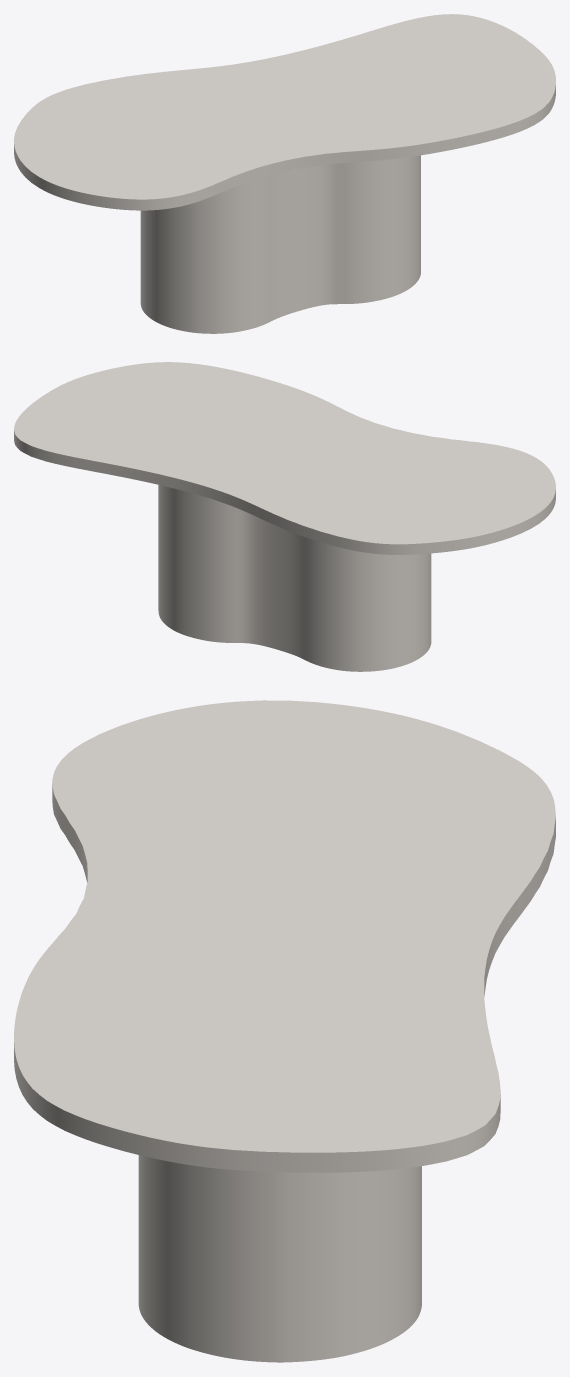
The model's file is pearlwhite_wave_standard_riverwave.glb.
3 views of the same model, one above another, from view 1: azimuth 30°, elevation 25°; view 2: azimuth 150°, elevation 25°; view 3: azimuth 270°, elevation 25° (orthographic). The views are drawn at different scales.
Parts seen in each view (by area): view 1: standard_wave, riverwave; view 2: standard_wave, riverwave; view 3: standard_wave, riverwave.
Boxes of the visible parts, x1,y1,x2,y2 form: standard_wave: (14, 14, 555, 210); riverwave: (140, 155, 420, 333); standard_wave: (14, 362, 555, 554); riverwave: (158, 485, 431, 671); standard_wave: (14, 700, 555, 1172); riverwave: (138, 1155, 421, 1362).
Bounding box in the file's own units: 7.5 × 2.5 × 3.8.
Materials: 1 (1 with a texture image).
